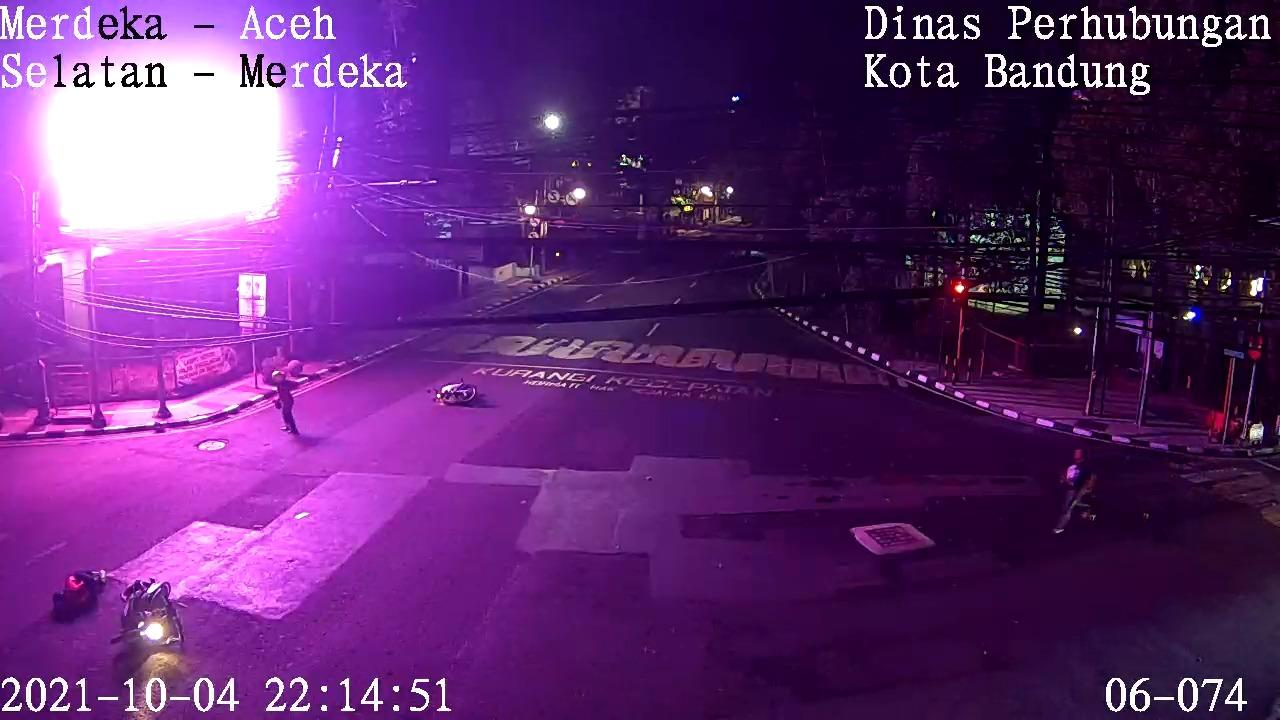accident: (38, 560, 116, 637)
